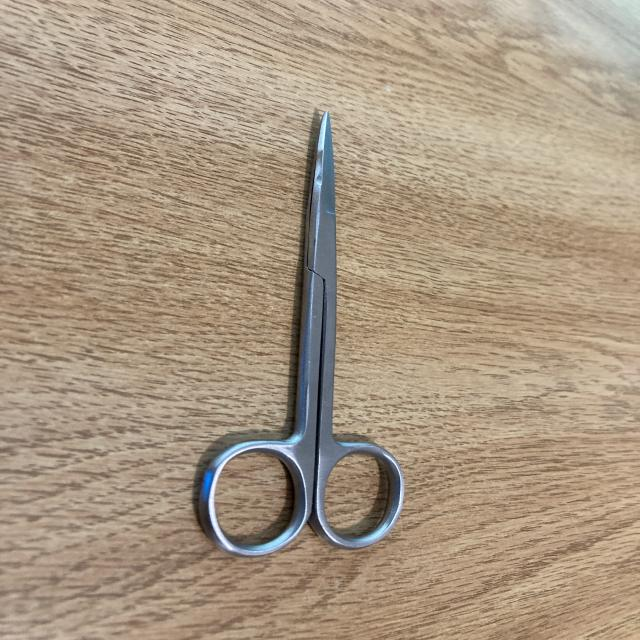scissor: (189, 100, 414, 564)
